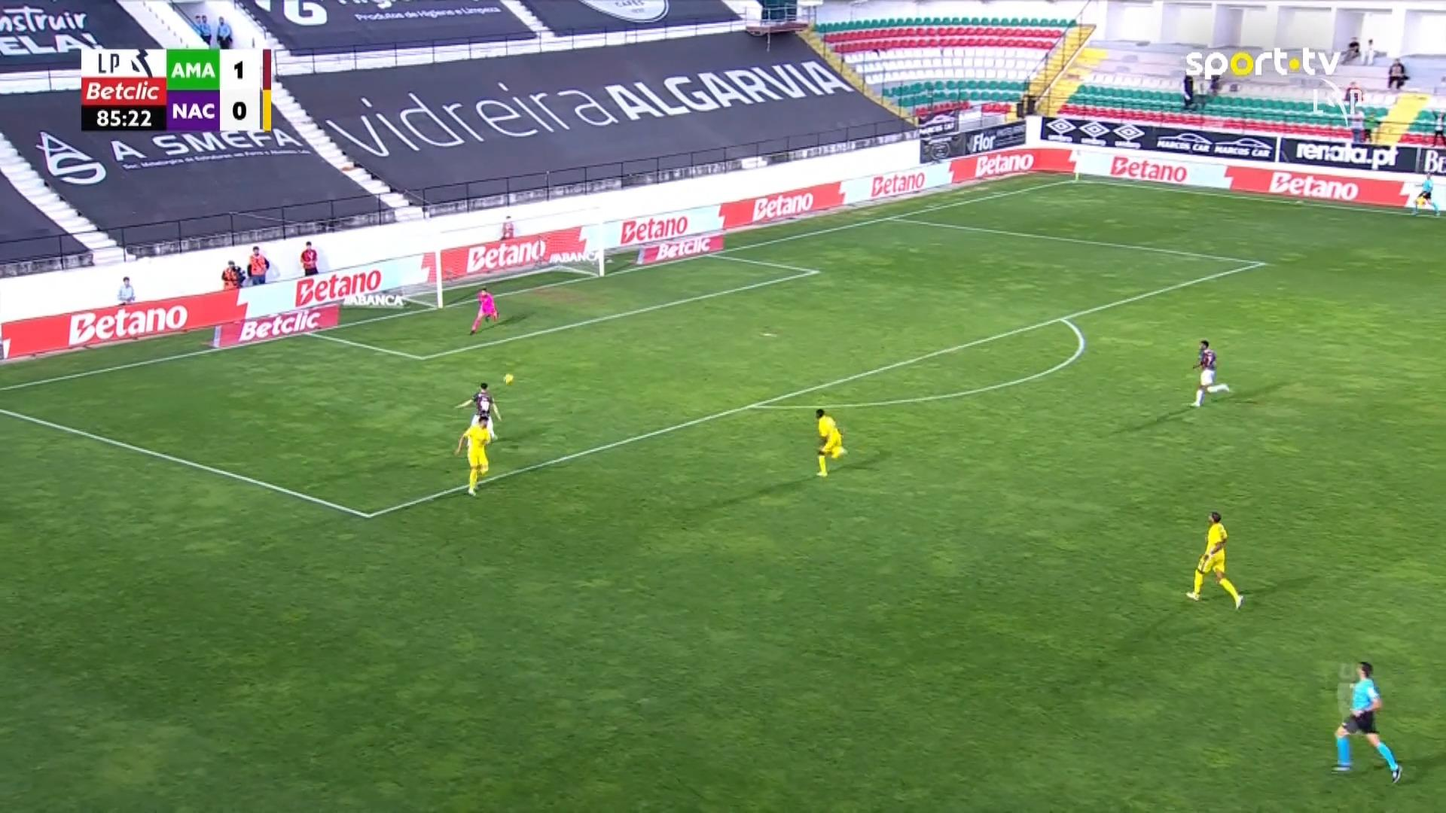ball: (503, 373, 513, 385)
goalkeeper: (468, 286, 499, 334)
player: (1185, 510, 1243, 611), (453, 414, 493, 496), (454, 381, 502, 443), (1189, 339, 1231, 407), (813, 406, 847, 477)
referee: (1331, 659, 1402, 784), (1410, 173, 1438, 216)
